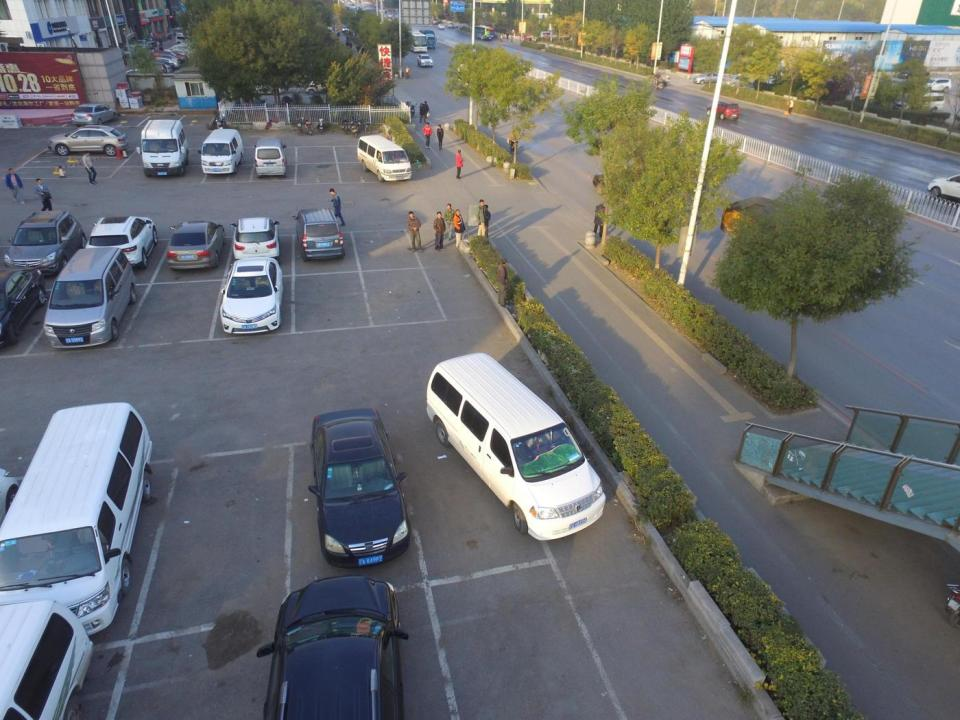bus: (407, 30, 428, 52), (473, 26, 496, 41)
car: (264, 575, 403, 720), (307, 408, 410, 569), (721, 195, 889, 289), (41, 247, 136, 344), (7, 210, 90, 279), (220, 255, 284, 334), (92, 216, 159, 271), (167, 217, 227, 271), (0, 266, 42, 343), (47, 124, 127, 156), (296, 209, 346, 259), (592, 171, 657, 208), (231, 214, 281, 262), (69, 102, 118, 125), (706, 99, 741, 118), (692, 72, 723, 85), (164, 43, 190, 58), (138, 60, 168, 72), (149, 49, 179, 61), (168, 41, 192, 56), (152, 58, 181, 69), (163, 49, 187, 62), (121, 43, 142, 56), (416, 53, 434, 68), (144, 38, 163, 48), (170, 27, 187, 38), (538, 30, 552, 42), (171, 36, 188, 45), (436, 24, 447, 30), (450, 22, 459, 28)
truck: (421, 27, 436, 48)
van: (0, 402, 152, 633), (423, 352, 607, 542), (141, 117, 189, 179), (356, 134, 412, 184), (202, 126, 243, 176), (252, 137, 288, 180)
